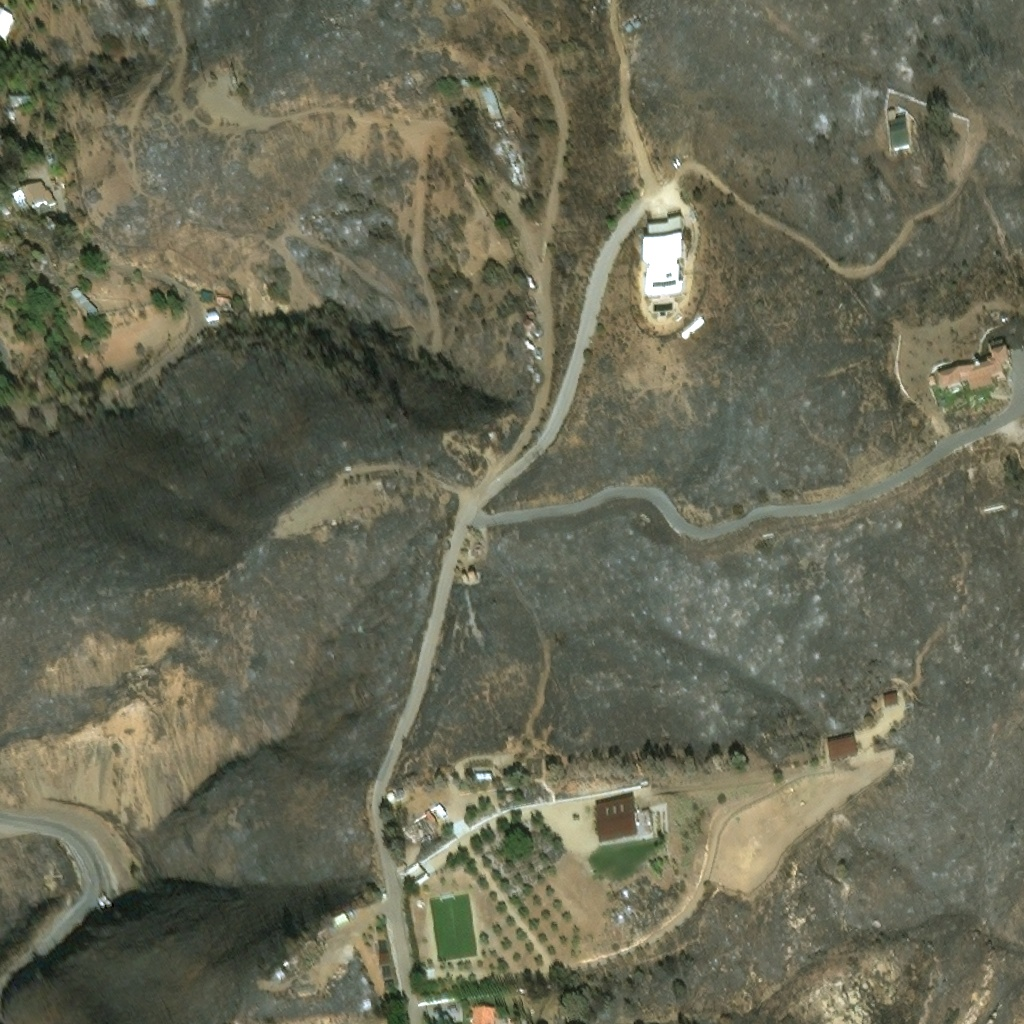0 no-damage: (937, 340, 1012, 394), (645, 219, 687, 301), (594, 797, 641, 844), (8, 173, 55, 215), (402, 809, 438, 843), (66, 282, 97, 315), (827, 736, 857, 765), (886, 112, 909, 148), (475, 77, 498, 112), (679, 318, 707, 345), (470, 1001, 496, 1023), (196, 283, 229, 296), (5, 83, 25, 96), (883, 693, 900, 708), (209, 297, 230, 307), (334, 915, 349, 928), (433, 802, 446, 816), (0, 0, 9, 20), (0, 201, 10, 214), (462, 576, 478, 584), (634, 23, 644, 33), (42, 147, 51, 157), (432, 1011, 442, 1020), (474, 772, 490, 777), (624, 27, 634, 35), (387, 795, 394, 804), (396, 791, 404, 798), (459, 72, 465, 81), (441, 1016, 449, 1022)
3 destroyed: (488, 127, 507, 148)
